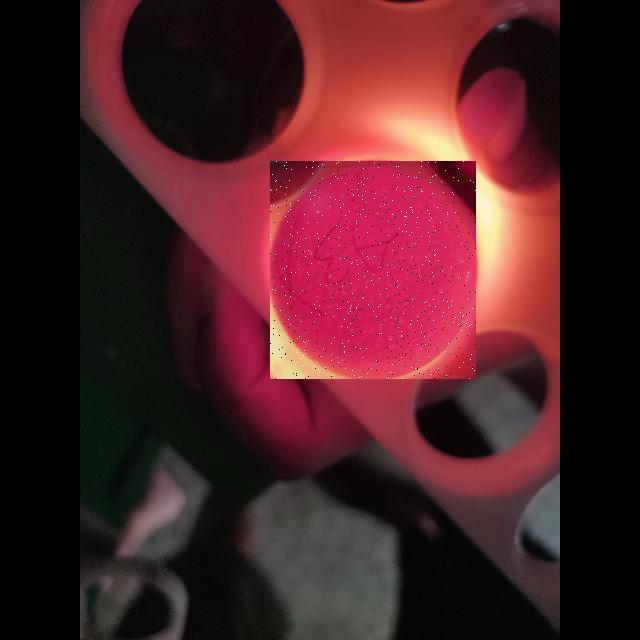Infertile: (270, 161, 476, 379)
